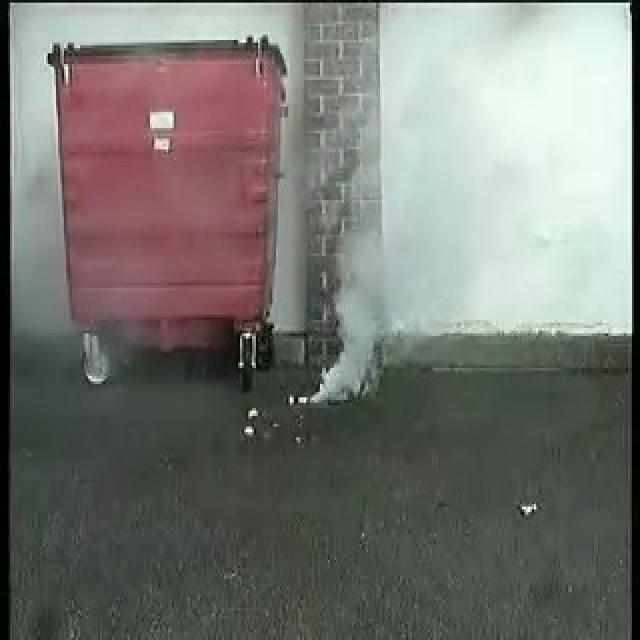smoke: (323, 246, 417, 399)
